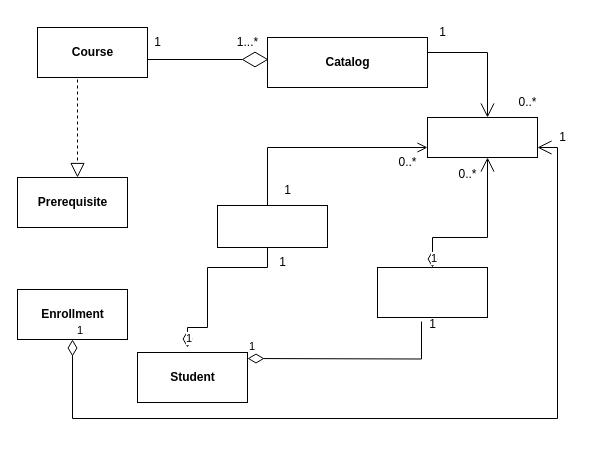
The diagram is 595 pixels wide and 453 high, and some of its shapes have lost their labels. Here are the shapes that lost their labels. From the top down, the box of each, then its label:
(426, 116, 538, 158): Section
(216, 204, 328, 248): Schedule
(376, 266, 488, 318): Transcript
